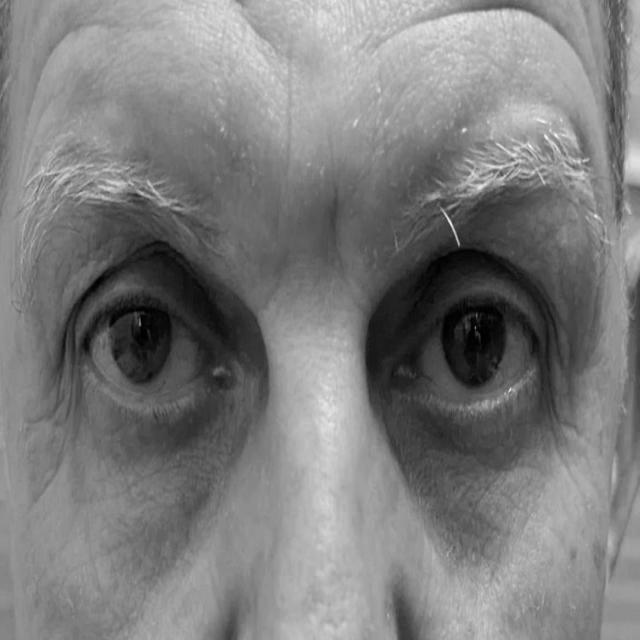real: (20, 194, 616, 494)
